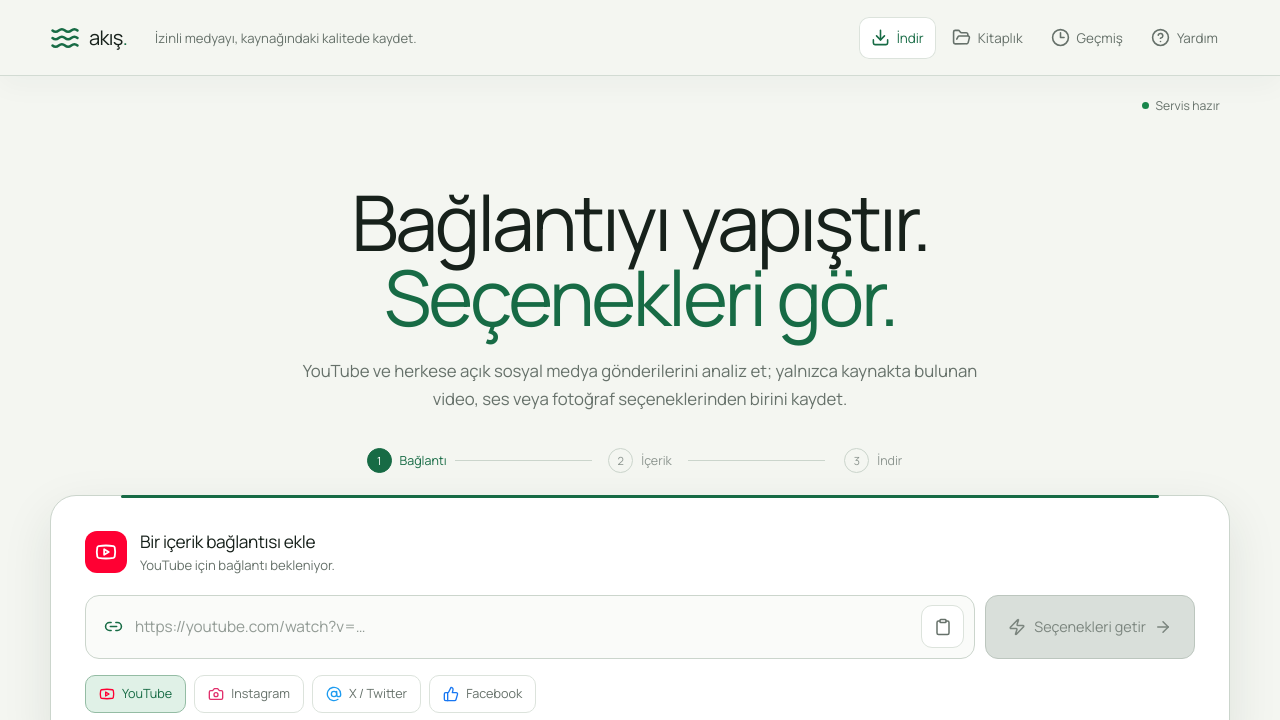
Test: Akış workspace › reports a clipboard denial in Turkish and refocuses the field
Click the button named "Panodan yapıştır": (943, 627) [921, 605, 964, 648]
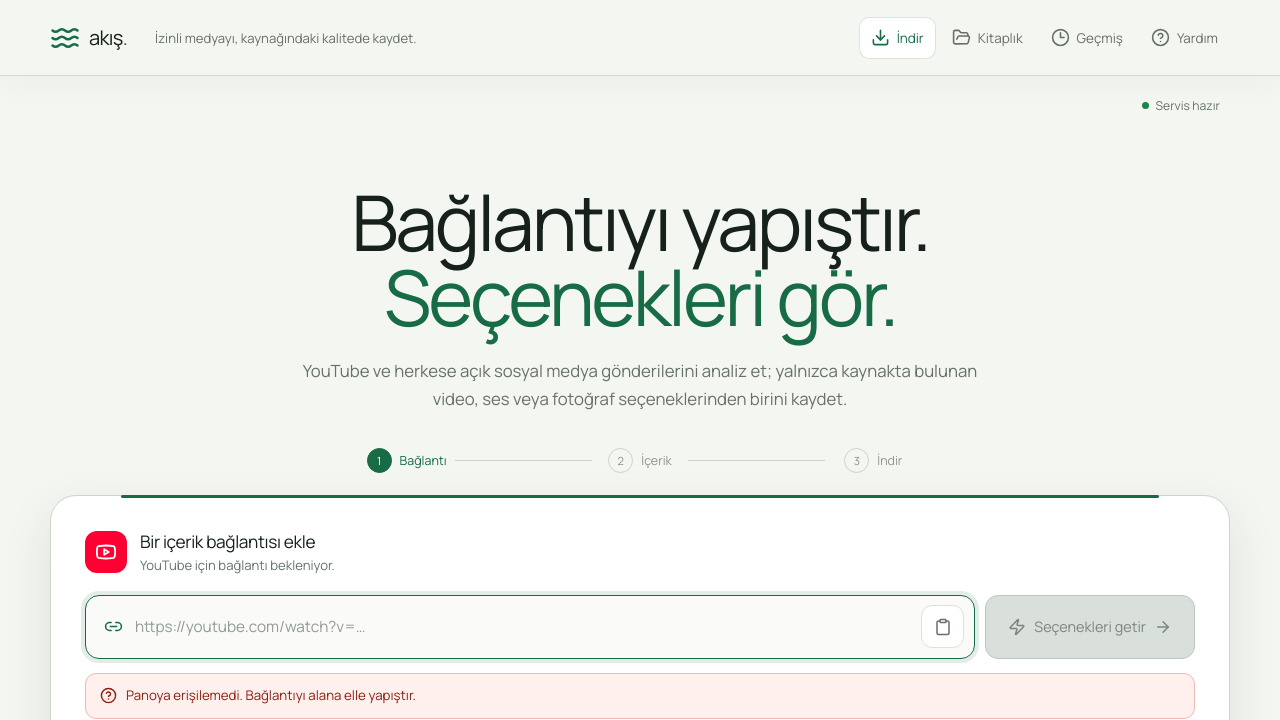
Expected: the message shows "Panoya erişilemedi", [126, 686, 416, 704]
